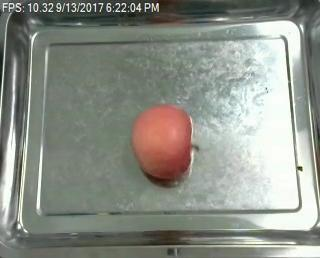apple: (131, 105, 197, 181)
